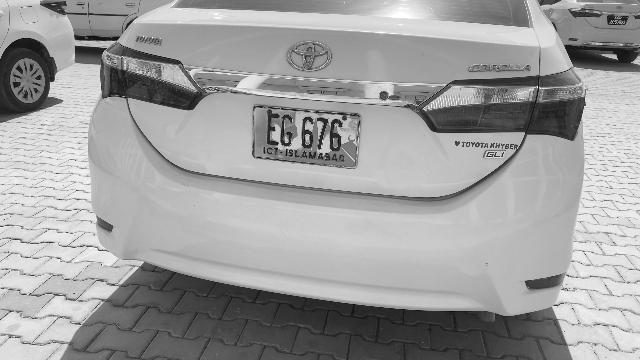Number: (261, 110, 349, 153)
